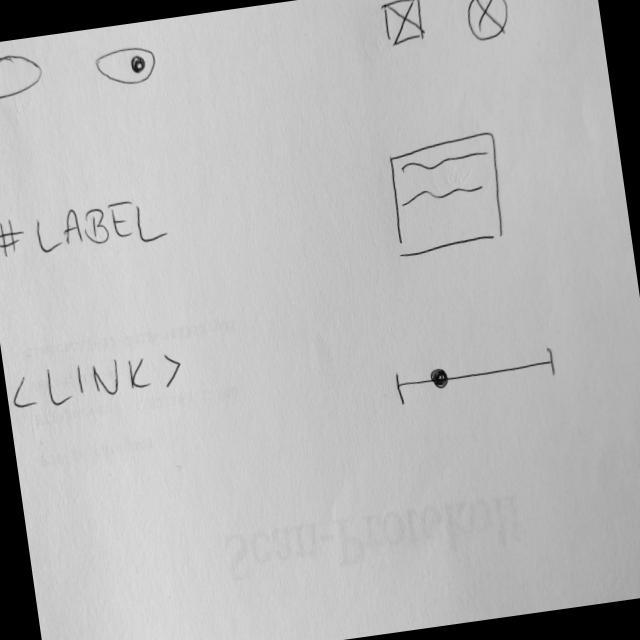image: (378, 1, 430, 50), (462, 1, 515, 44)
label: (1, 192, 171, 269)
link: (9, 348, 189, 416)
slider: (393, 344, 560, 409)
textarea: (385, 129, 512, 262)
toggle: (93, 43, 160, 93), (1, 48, 48, 104)
